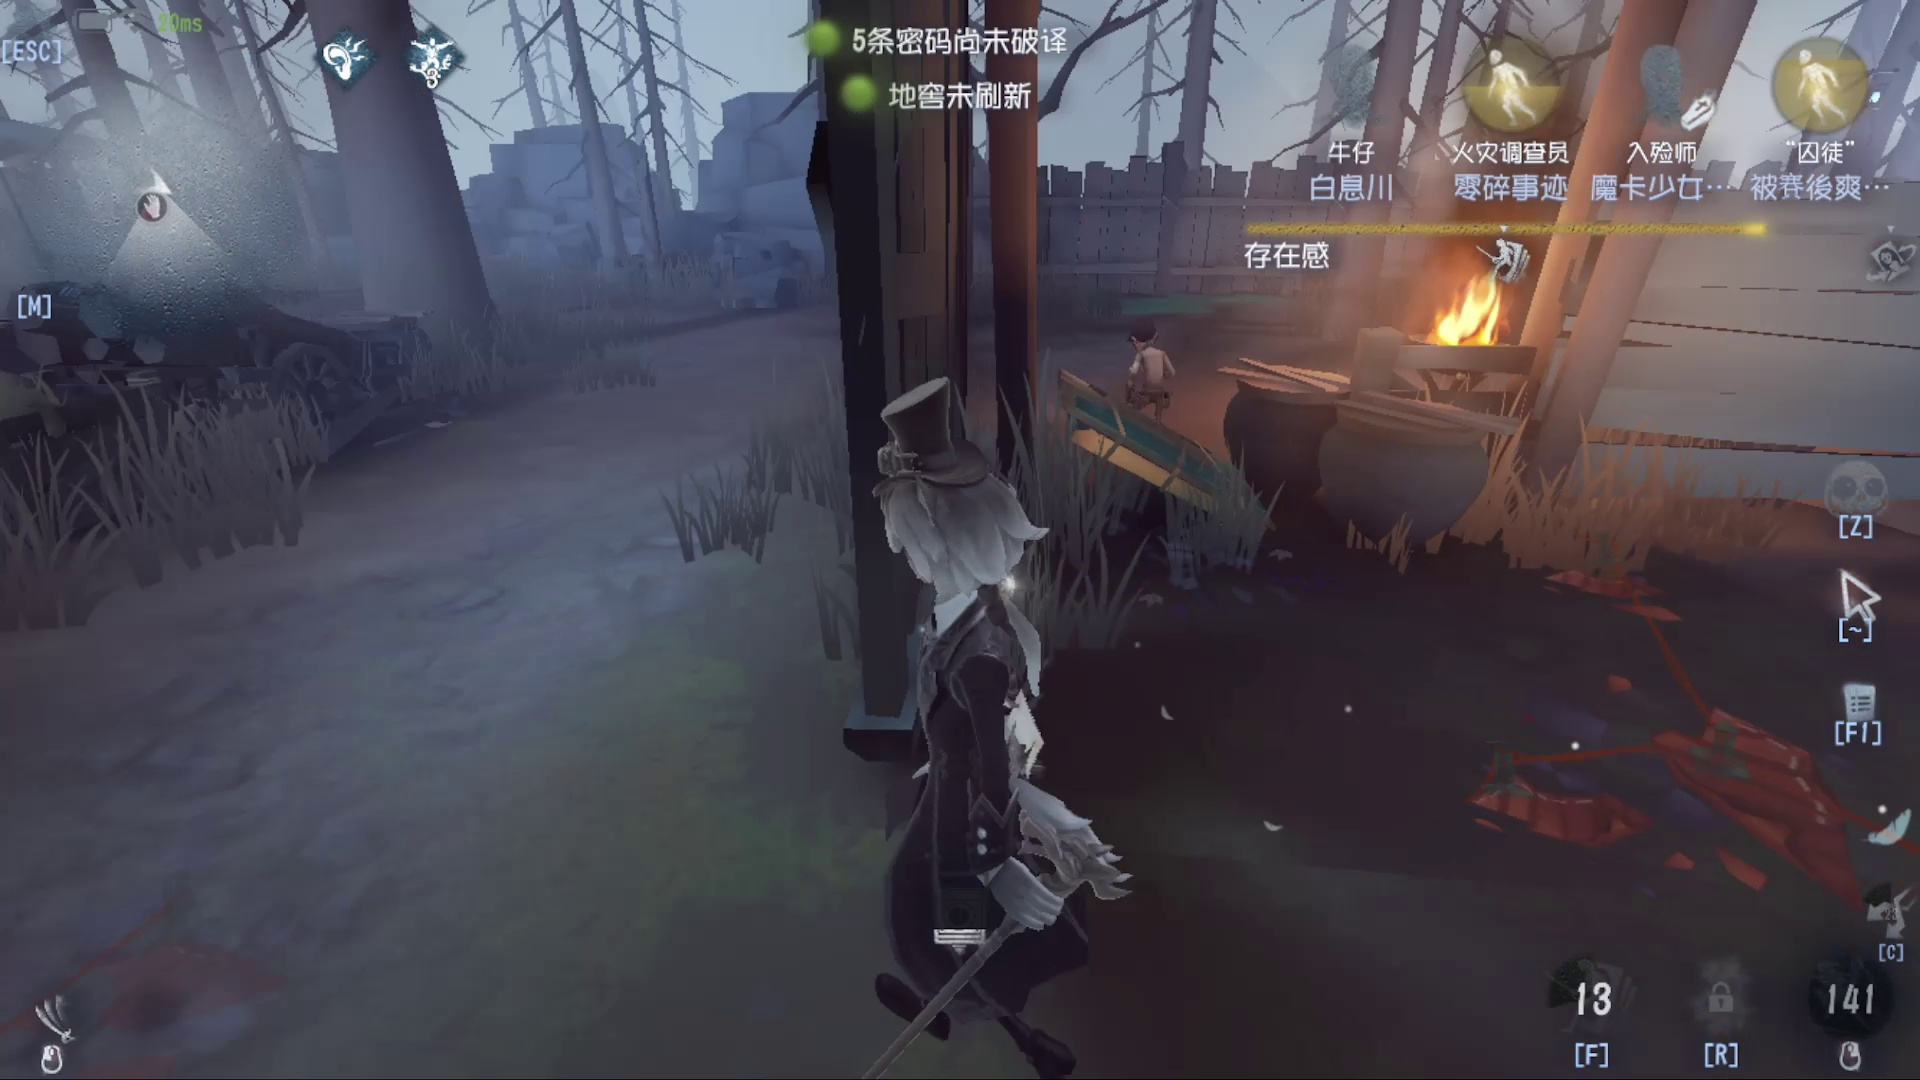木板: (1058, 367, 1296, 550)
求生者: (1091, 301, 1204, 465)
脚印: (1418, 525, 1853, 916)
